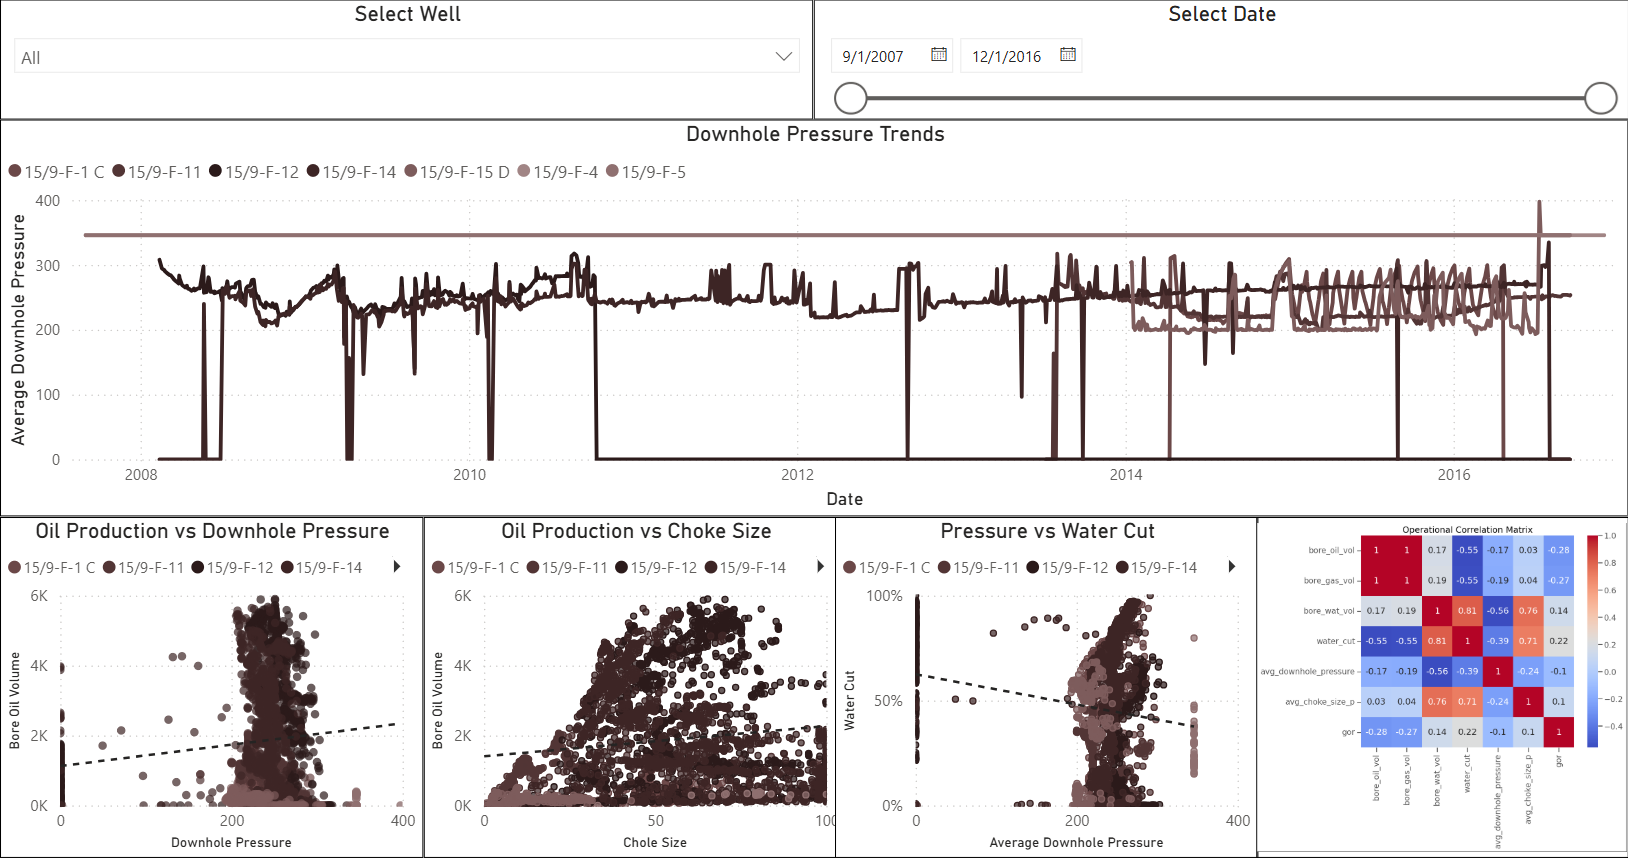

What the dashboard file says about the page in this screenshot:
{"tool":"powerbi","page":{"name":"Operational & Pressure Analysis","canvas":[1280,720],"ordinal":2},"visuals":[{"type":"slicer","title":"Select Well","fields":{"Values":["volve_cleaned.npd_well_bore_name"]},"box":[0,45.3,639.5,94.7],"z":0},{"type":"slicer","title":"Select Date","fields":{"Values":["volve_cleaned.dateprd"]},"box":[639.2,45.3,640.8,94.7],"z":1000},{"type":"lineChart","title":"Downhole Pressure Trends","fields":{"Series":["volve_cleaned.npd_well_bore_name"],"Category":["volve_cleaned.dateprd"],"Y":["Avg(volve_cleaned.avg_downhole_pressure)"]},"box":[0,139.5,1280.3,312.1],"z":2000},{"type":"scatterChart","title":"Oil Production vs Downhole Pressure","fields":{"X":["Avg(volve_cleaned.avg_downhole_pressure)"],"Y":["Sum(volve_cleaned.bore_oil_vol)"],"Series":["volve_cleaned.npd_well_bore_name"],"Category":["volve_cleaned.dateprd"]},"box":[0,451.6,332.8,267.9],"z":2001},{"type":"scatterChart","title":"Oil Production vs Choke Size","fields":{"X":["Avg(volve_cleaned.avg_choke_size_p)"],"Y":["Sum(volve_cleaned.bore_oil_vol)"],"Series":["volve_cleaned.npd_well_bore_name"],"Category":["volve_cleaned.dateprd"]},"box":[332.8,451.6,332.8,267.9],"z":2002},{"type":"scatterChart","title":"Pressure vs Water Cut","fields":{"X":["Avg(volve_cleaned.avg_downhole_pressure)"],"Y":["Avg(volve_cleaned.water_cut)"],"Series":["volve_cleaned.npd_well_bore_name"],"Category":["volve_cleaned.dateprd"]},"box":[656,451.6,332.8,267.9],"z":2003},{"type":"image","title":"Operational Correlation Matrix","box":[987.5,451.6,292.8,267.9],"z":2004}]}

Visuals, with their boxes on the page's 1280x720 design canvas (x1, y1, x2, y2). These are canvas units, not pixel positions in the 1628x858 screenshot, which may show the page scaled, cropped or inside an application window:
"Select Well" slicer: <region>0, 45, 640, 140</region>
"Select Date" slicer: <region>639, 45, 1280, 140</region>
"Downhole Pressure Trends" lineChart: <region>0, 140, 1280, 452</region>
"Oil Production vs Downhole Pressure" scatterChart: <region>0, 452, 333, 720</region>
"Oil Production vs Choke Size" scatterChart: <region>333, 452, 666, 720</region>
"Pressure vs Water Cut" scatterChart: <region>656, 452, 989, 720</region>
"Operational Correlation Matrix" image: <region>988, 452, 1280, 720</region>
